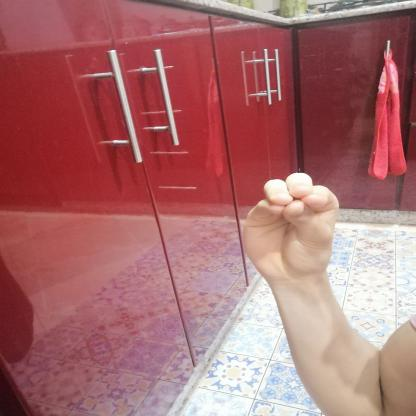HA: (228, 164, 354, 290)
